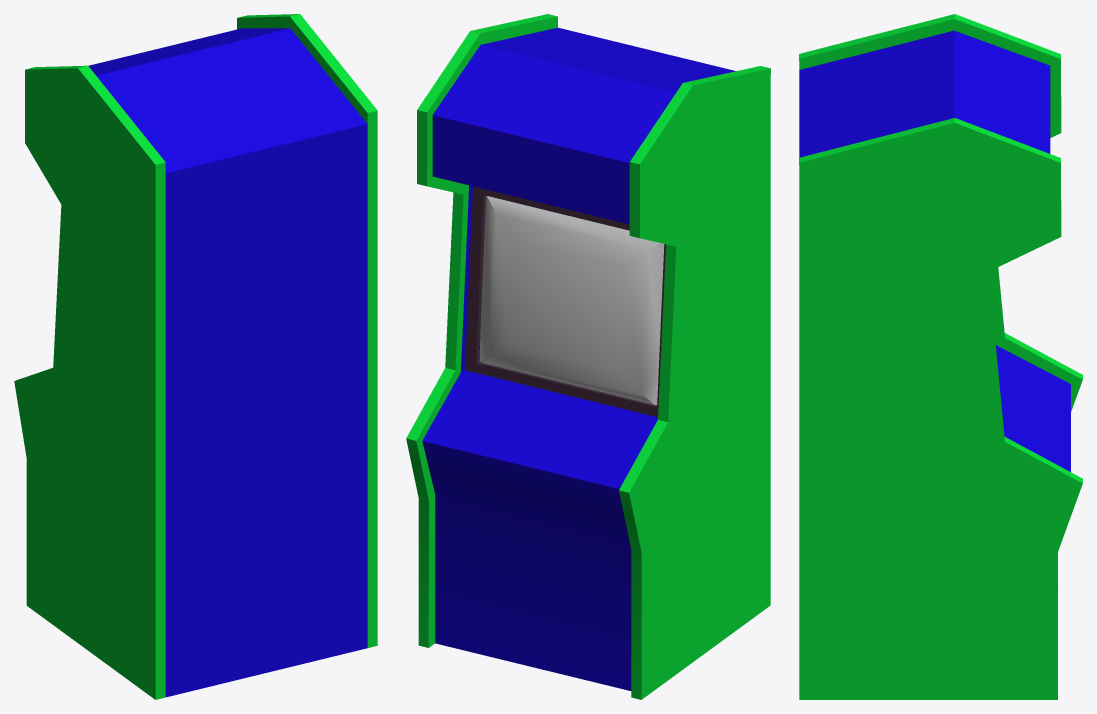
The model's file is arcade.fbx.
3 renders of one model, left to right at view 1: azimuth 30°, elevation 25°; view 2: azimuth 150°, elevation 25°; view 3: azimuth 270°, elevation 25°, orthographic.
Parts seen in each view (by area): view 1: Cube.004; view 2: Cube.004; view 3: Cube.004.
Part boxes in pixels (x1,y1,x2,y2): Cube.004: (14,14,377,699); Cube.004: (406,14,770,699); Cube.004: (799,14,1082,699).
Bounding box in the file's own units: 212 × 524 × 233.
